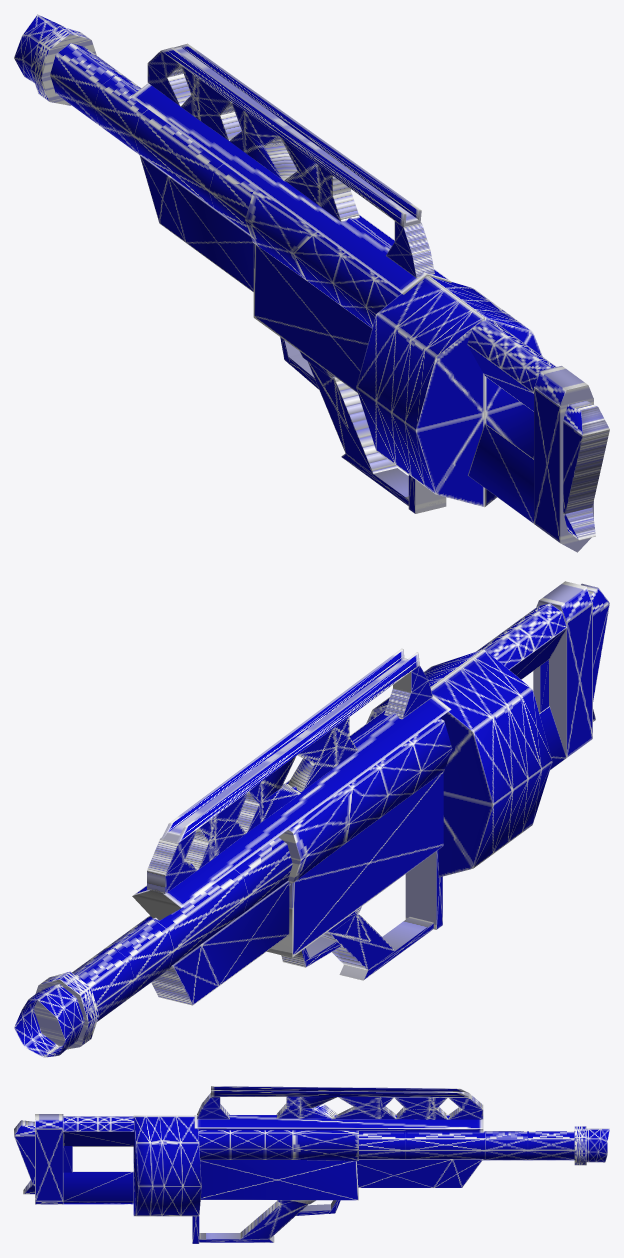
File: p9pancorjackhammer.obj
The picture shows the model from 3 angles, top to bottom: view 1: azimuth 30°, elevation 25°; view 2: azimuth 150°, elevation 25°; view 3: azimuth 270°, elevation 25°; orthographic projection. The views are drawn at different scales.
Parts seen in each view (by area): view 1: p9pancorjackhammer; view 2: p9pancorjackhammer; view 3: p9pancorjackhammer.
Part boxes in pixels (box(x1,y1,x2,y2)): p9pancorjackhammer: box(14, 14, 609, 552); p9pancorjackhammer: box(14, 581, 609, 1057); p9pancorjackhammer: box(14, 1086, 609, 1243).
Size of the model in its own units: 6.89 by 12.89 by 45.96.
1 material, 1 textured.
